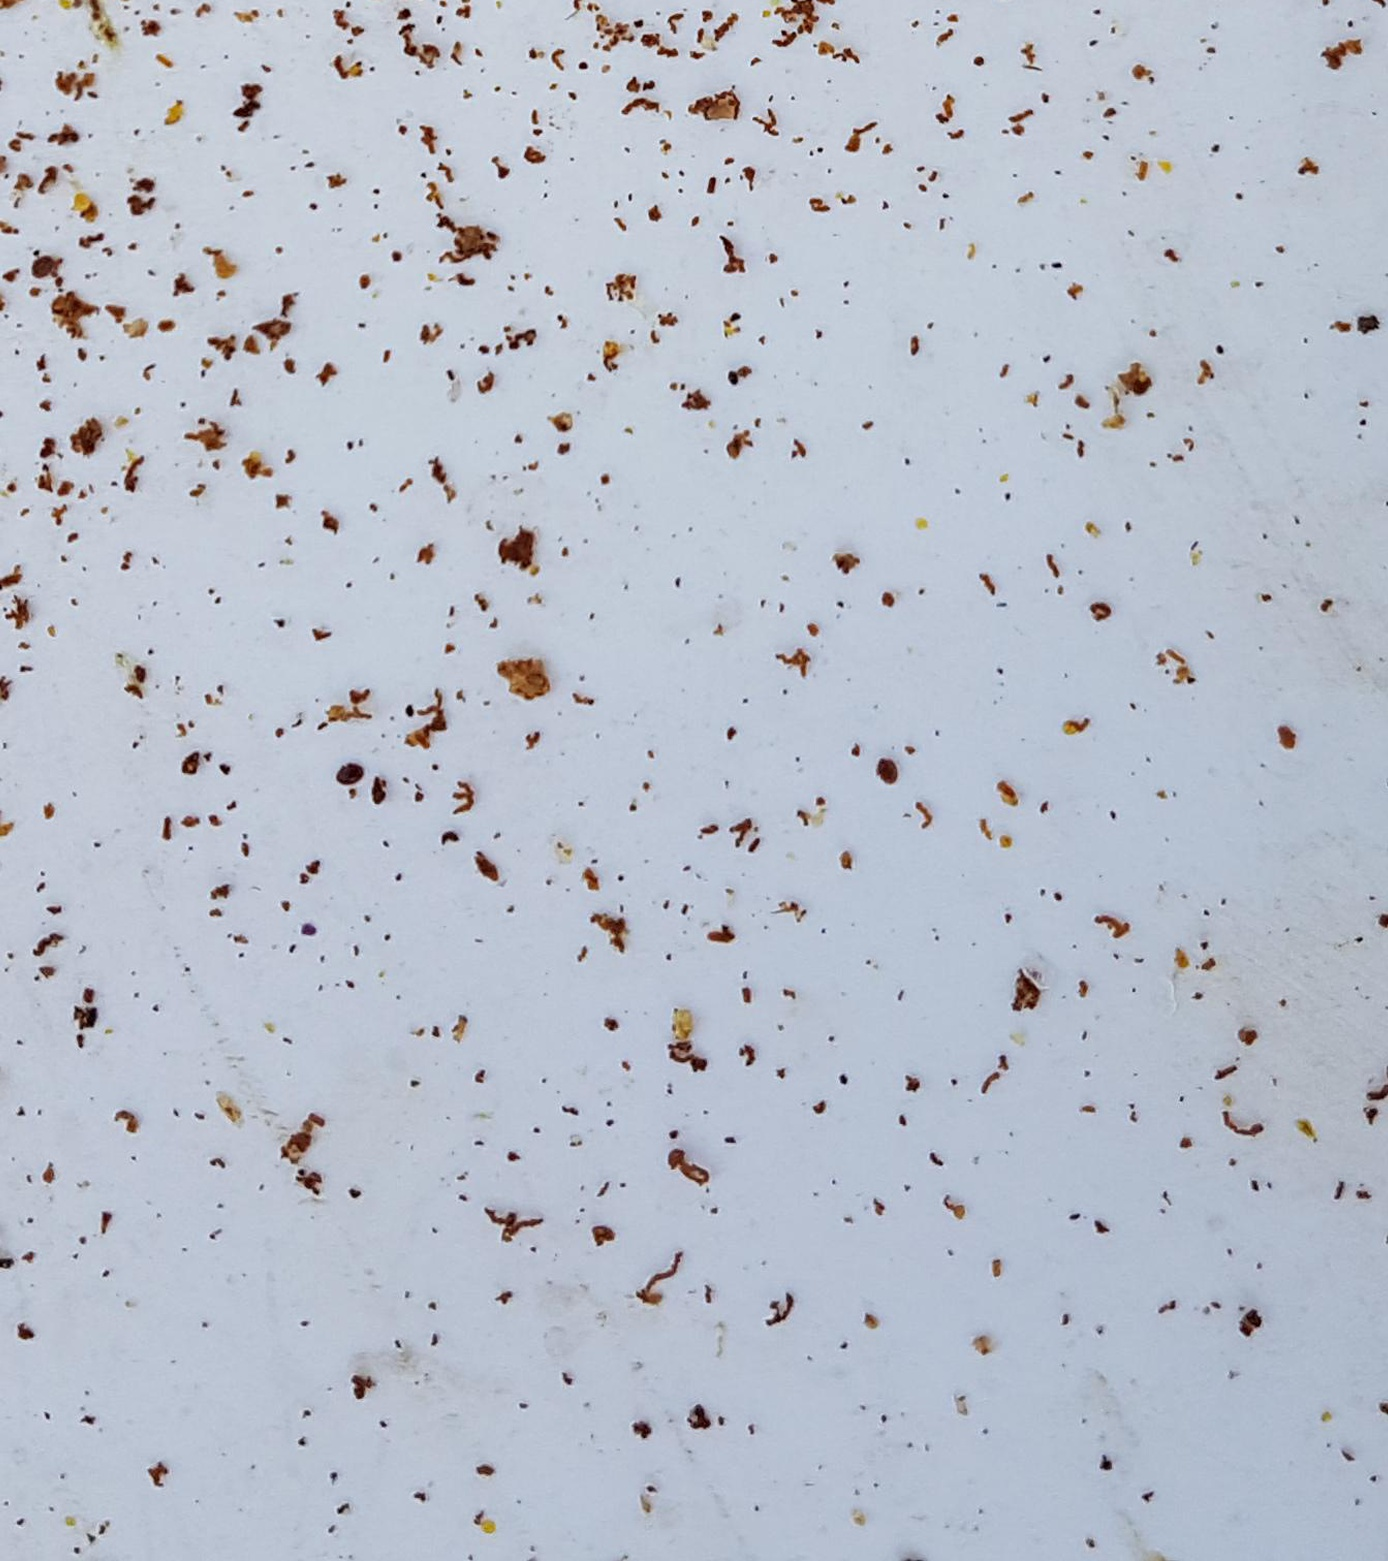Varroa: (29, 248, 60, 285), (331, 757, 363, 791), (875, 757, 902, 787)
